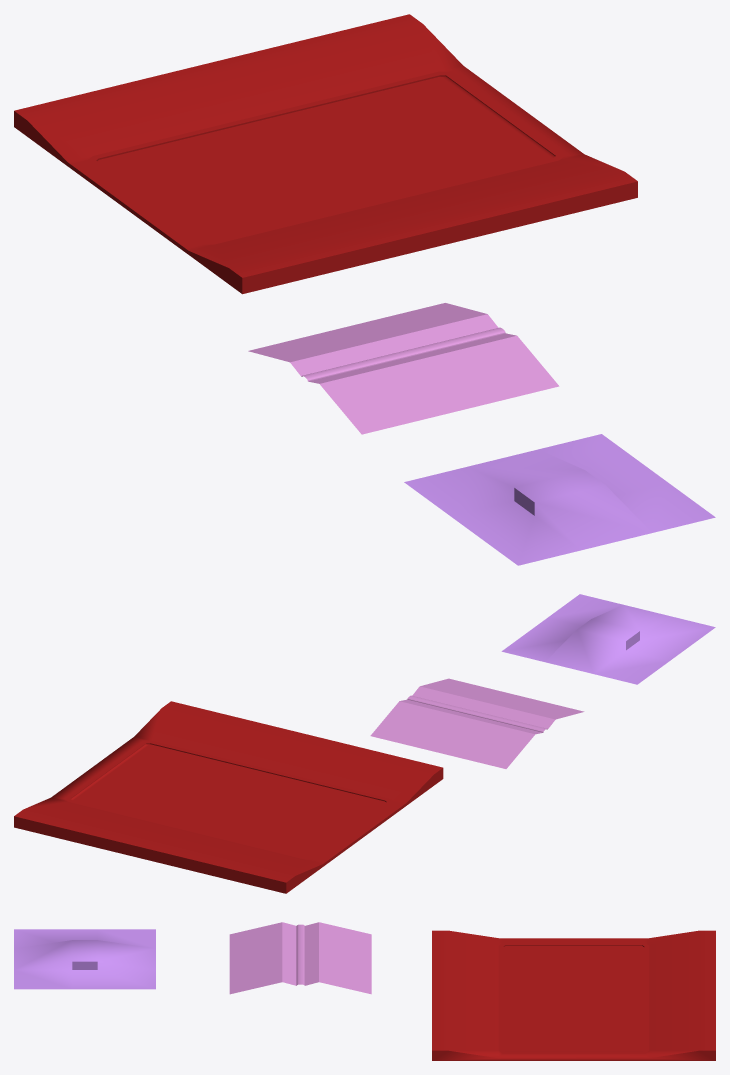
The model's file is Techos.FBX.
The picture shows the model from 3 angles, top to bottom: view 1: azimuth 30°, elevation 25°; view 2: azimuth 150°, elevation 25°; view 3: azimuth 270°, elevation 25°; orthographic projection. The views are drawn at different scales.
Parts seen in each view (by area): view 1: Box012, Box016, Box017; view 2: Box012, Box016, Box017; view 3: Box012, Box016, Box017.
Part boxes in pixels (box(x1,y1,x2,y2)): Box012: box(14, 14, 637, 294); Box016: box(248, 303, 559, 434); Box017: box(404, 434, 715, 565); Box012: box(14, 701, 443, 893); Box016: box(370, 678, 584, 768); Box017: box(501, 594, 715, 684); Box012: box(432, 930, 715, 1060); Box016: box(229, 922, 371, 994); Box017: box(14, 929, 155, 989).
Bounding box in the file's own units: 90.74 × 5.17 × 195.
